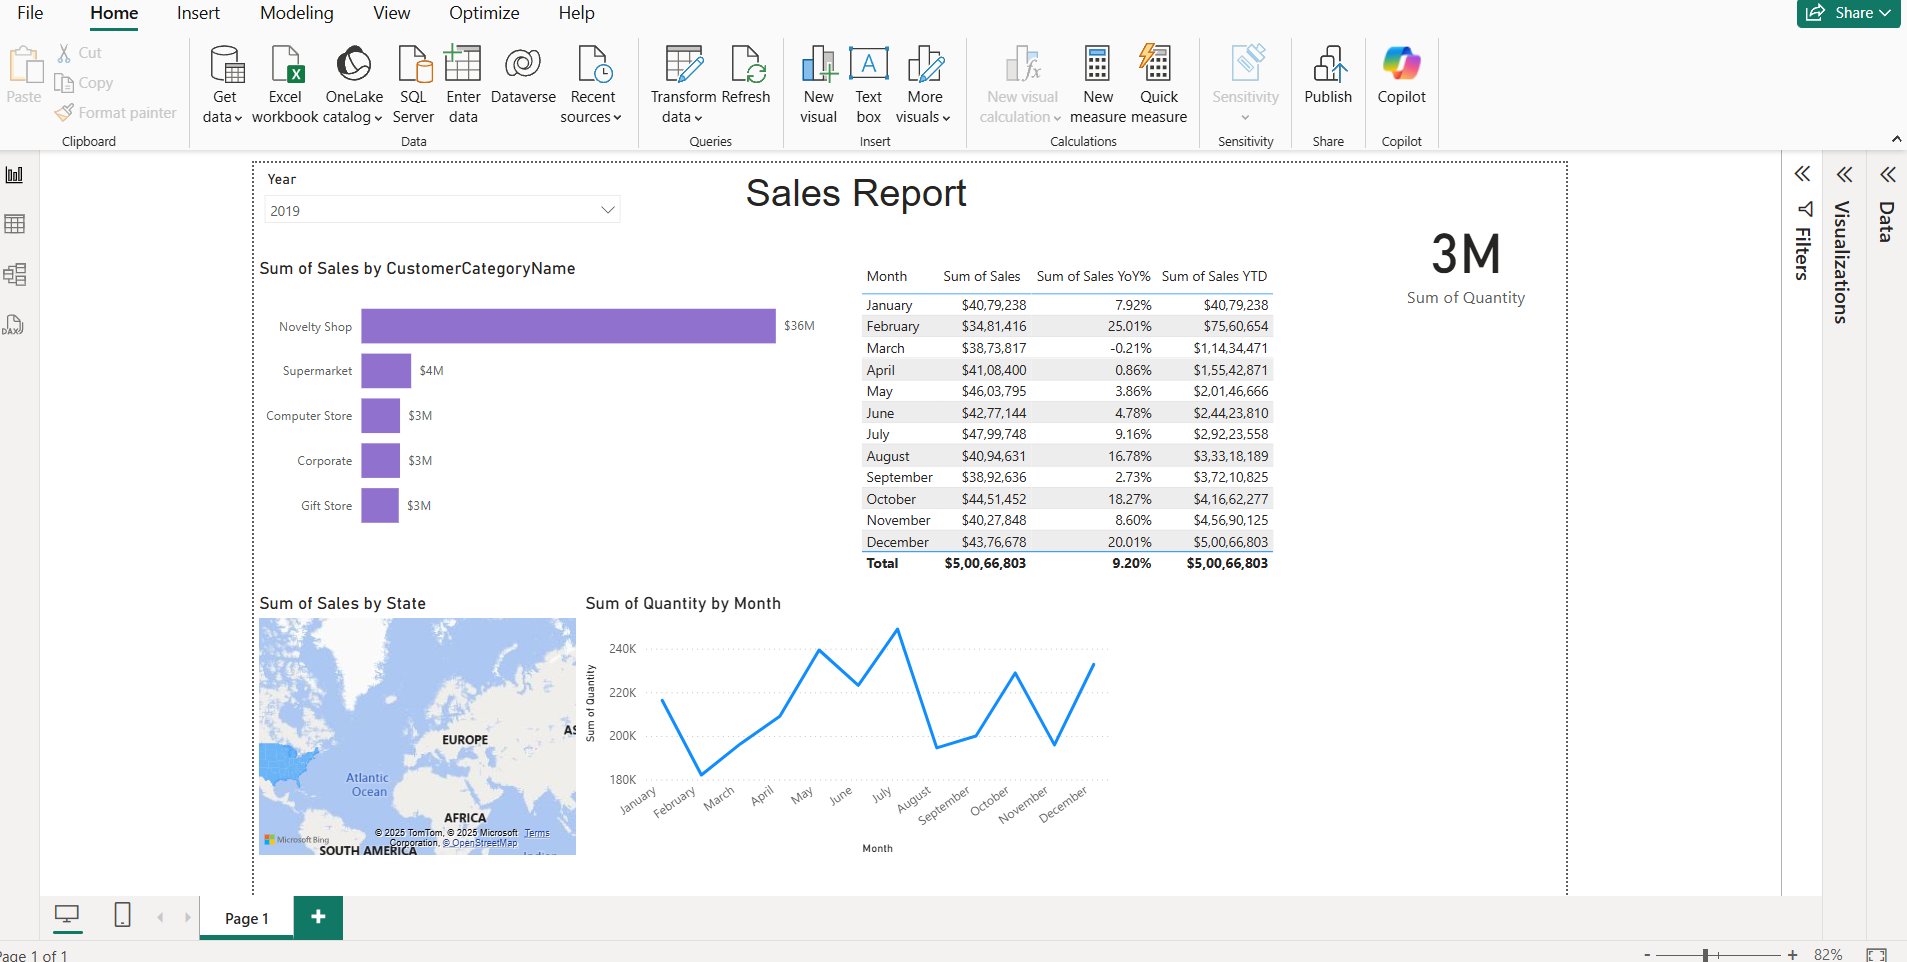

This screenshot's page, from the dashboard's own definition file:
{"tool":"powerbi","page":{"name":"Page 1","canvas":[1280,720],"ordinal":0},"visuals":[{"type":"clusteredBarChart","fields":{"Category":["MasterCustomer.CustomerCategoryName"],"Y":["Sum(InvoiceData.Sales)"]},"box":[0,92.7,567.3,282.2],"z":0},{"type":"slicer","fields":{"Values":["InvoiceData.Date.Variation.Date Hierarchy.Year"]},"box":[0,2.9,367.8,89.8],"z":1000},{"type":"tableEx","fields":{"Values":["InvoiceData.Date.Variation.Date Hierarchy.Month","Sum(InvoiceData.Sales)","InvoiceData.Sum of Sales YoY%","InvoiceData.Sum of Sales YTD"]},"box":[586.4,93.4,430.2,329.2],"z":2000},{"type":"filledMap","fields":{"Category":["MasterCustomer.State"]},"box":[0,420,318.6,260],"z":3000},{"type":"lineChart","fields":{"Y":["Sum(InvoiceData.Quantity)"],"Category":["InvoiceData.Date.Variation.Date Hierarchy.Month"]},"box":[318.6,420,521.4,260],"z":3001},{"type":"textbox","box":[474.3,2.9,260,58.6],"z":3002},{"type":"card","fields":{"Values":["Sum(InvoiceData.Quantity)"]},"box":[1112.9,28.6,138.6,128.6],"z":3003}]}

Visuals, with their boxes on the page's 1280x720 design canvas (x1, y1, x2, y2). These are canvas units, not pixel positions in the 1907x962 screenshot, which may show the page scaled, cropped or inside an application window:
clusteredBarChart - MasterCustomer.CustomerCategoryName x Sum(InvoiceData.Sales): box(0, 93, 567, 375)
slicer - InvoiceData.Date.Variation.Date Hierarchy.Year: box(0, 3, 368, 93)
tableEx - InvoiceData.Date.Variation.Date Hierarchy.Month x Sum(InvoiceData.Sales): box(586, 93, 1017, 423)
filledMap - MasterCustomer.State: box(0, 420, 319, 680)
lineChart - Sum(InvoiceData.Quantity) x InvoiceData.Date.Variation.Date Hierarchy.Month: box(319, 420, 840, 680)
textbox: box(474, 3, 734, 62)
card - Sum(InvoiceData.Quantity): box(1113, 29, 1252, 157)
